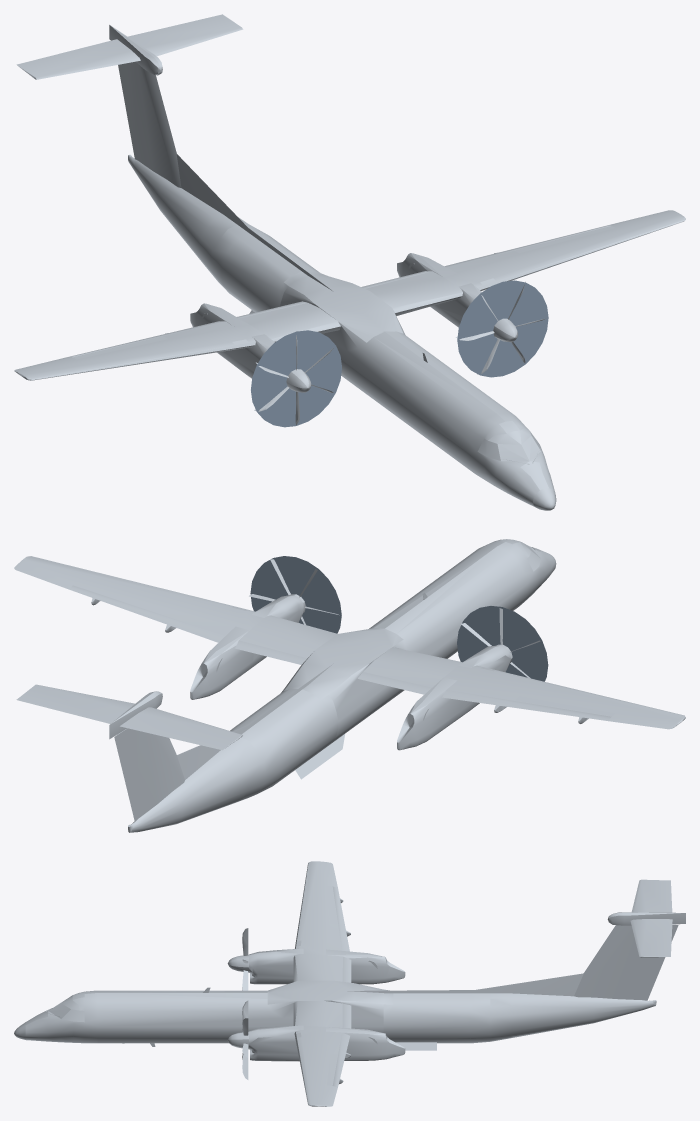
The picture shows the model from 3 angles, top to bottom: view 1: azimuth 30°, elevation 25°; view 2: azimuth 150°, elevation 25°; view 3: azimuth 270°, elevation 25°; orthographic projection. The views are drawn at different scales.
Parts seen in each view (by area): view 1: node1, node89_anim_libxplanemp/engines/engine_rotation_angle_deg1, node92_anim_libxplanemp/engines/engine_rotation_angle_deg2; view 2: node1, node89_anim_libxplanemp/engines/engine_rotation_angle_deg1, node92_anim_libxplanemp/engines/engine_rotation_angle_deg2, node33_anim_libxplanemp/controls/flap_ratio, node29_anim_libxplanemp/controls/flap_ratio, node35_anim_libxplanemp/controls/flap_ratio, node31_anim_libxplanemp/controls/flap_ratio, node25_anim_libxplanemp/engines/thrust_reverser_deploy_ratio; view 3: node1, node89_anim_libxplanemp/engines/engine_rotation_angle_deg1, node92_anim_libxplanemp/engines/engine_rotation_angle_deg2, node29_anim_libxplanemp/controls/flap_ratio, node33_anim_libxplanemp/controls/flap_ratio.
Part boxes in pixels (x1,y1,x2,y2): node1: (14, 14, 685, 510); node89_anim_libxplanemp/engines/engine_rotation_angle_deg1: (455, 280, 548, 377); node92_anim_libxplanemp/engines/engine_rotation_angle_deg2: (251, 330, 341, 427); node1: (14, 539, 685, 832); node89_anim_libxplanemp/engines/engine_rotation_angle_deg1: (249, 556, 341, 633); node92_anim_libxplanemp/engines/engine_rotation_angle_deg2: (457, 606, 548, 681); node33_anim_libxplanemp/controls/flap_ratio: (69, 585, 225, 642); node29_anim_libxplanemp/controls/flap_ratio: (442, 690, 611, 720); node35_anim_libxplanemp/controls/flap_ratio: (235, 640, 306, 664); node31_anim_libxplanemp/controls/flap_ratio: (357, 672, 431, 694); node25_anim_libxplanemp/engines/thrust_reverser_deploy_ratio: (73, 582, 167, 614); node1: (14, 861, 685, 1106); node89_anim_libxplanemp/engines/engine_rotation_angle_deg1: (227, 1000, 248, 1079); node92_anim_libxplanemp/engines/engine_rotation_angle_deg2: (227, 928, 248, 990); node29_anim_libxplanemp/controls/flap_ratio: (332, 886, 349, 951); node33_anim_libxplanemp/controls/flap_ratio: (332, 1033, 349, 1087).
Bounding box in the file's own units: 28.39 × 7.26 × 32.98.
